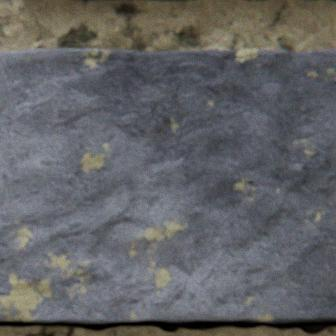brick: (0, 50, 335, 323), (69, 0, 198, 2), (282, 0, 320, 2), (238, 0, 278, 1)
crack: (0, 319, 335, 335)
